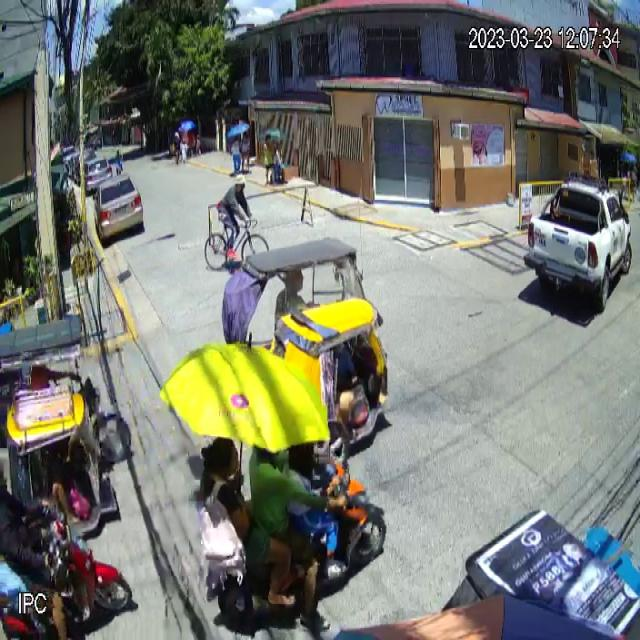Car: (523, 169, 632, 314), (92, 172, 144, 245)
Tricycle: (238, 236, 392, 465), (0, 314, 134, 542)
